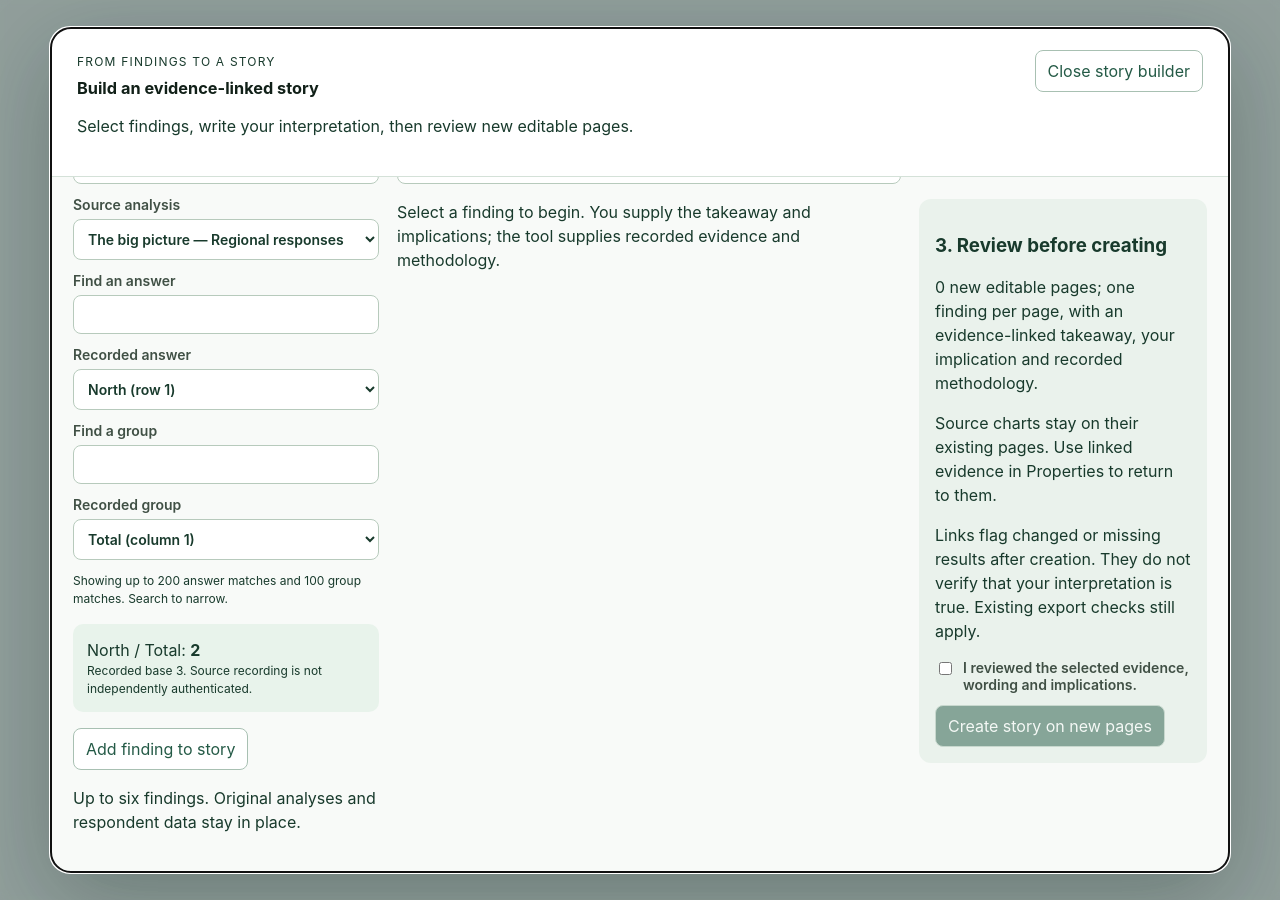
Test: blocks changed evidence and report replacement without rebinding or losing authored text
The image size is (1280, 900).
Later steps or results of the test are not shown.
(page scrolled)
Click the button "Add finding to story" at {"x": 161, "y": 749}, box left=73, top=728, right=248, bottom=770
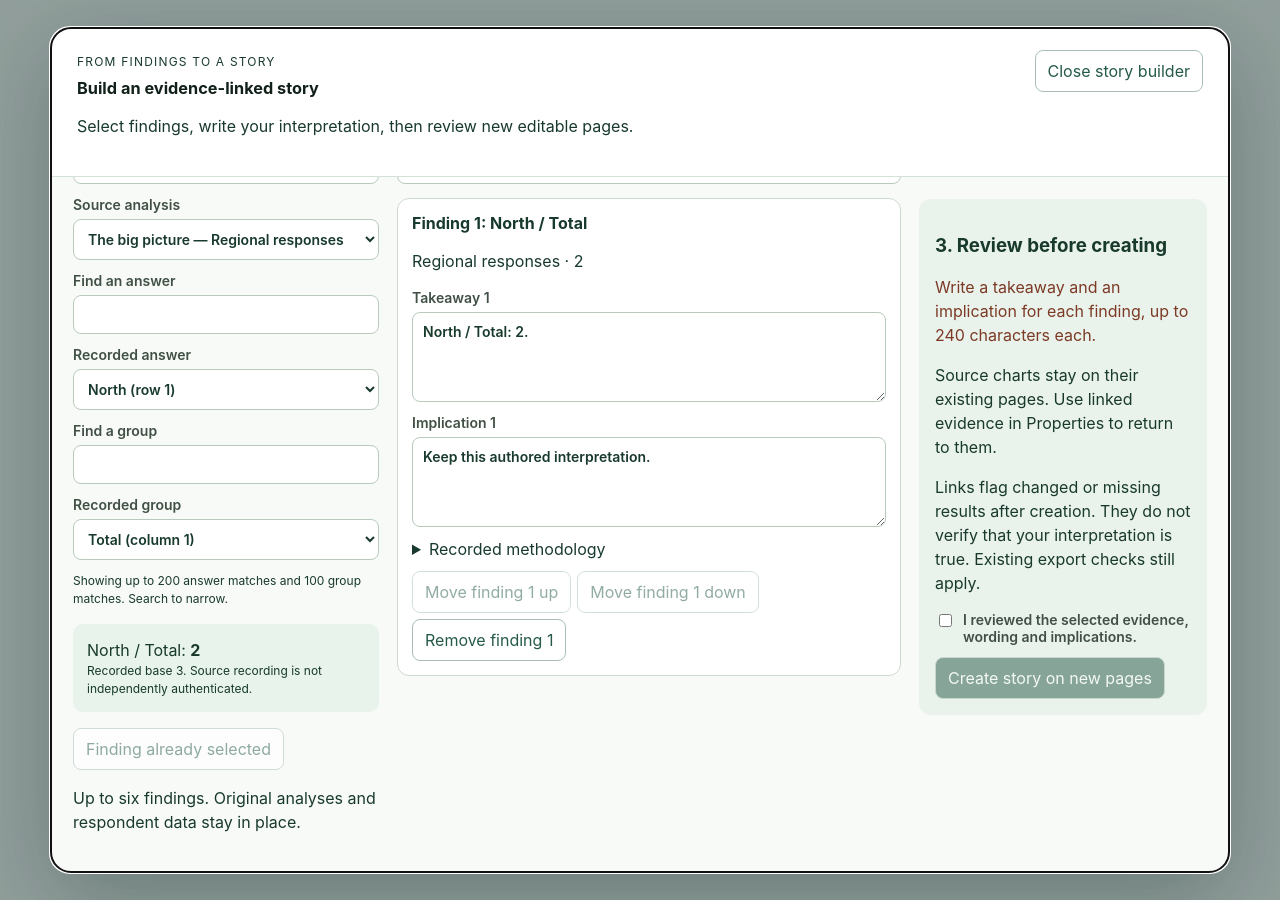
Now the text box labelled "Implication 1" is shown, box left=412, top=437, right=886, bottom=527
